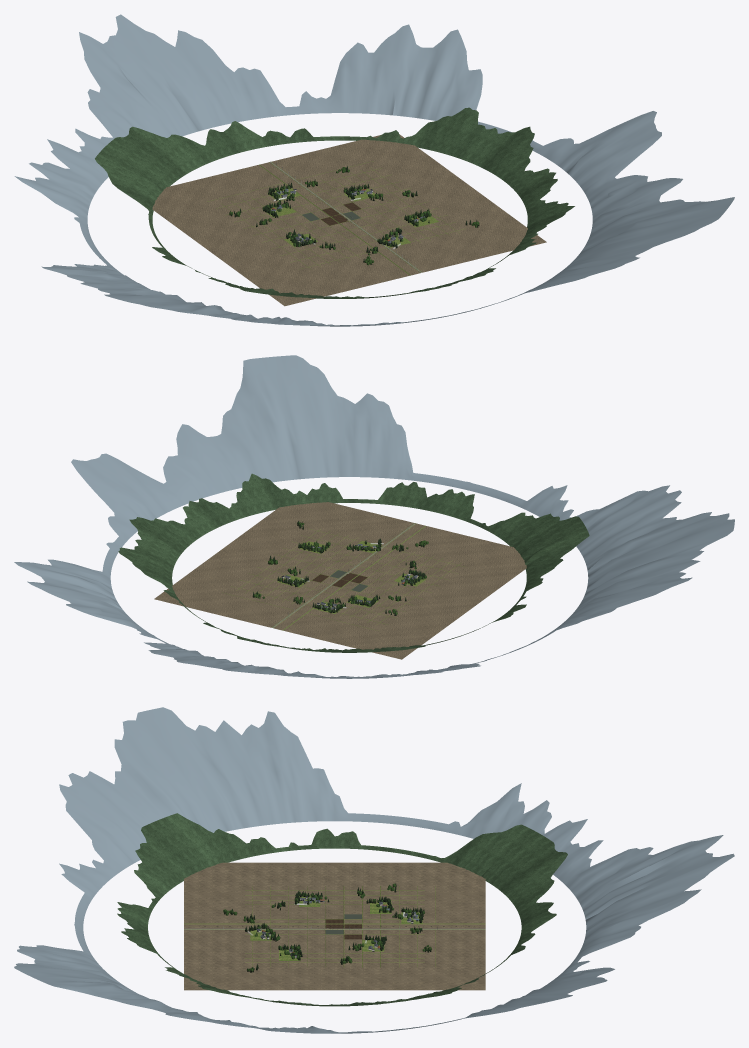
Rendered from field_tanbo.glb.
3 renders of one model, top to bottom at view 1: azimuth 30°, elevation 25°; view 2: azimuth 150°, elevation 25°; view 3: azimuth 270°, elevation 25°, orthographic. The views are drawn at different scales.
Parts seen in each view (by area): view 1: Hills, Neighbors, Trees, Houses, Levees; view 2: Hills, Neighbors, Trees, Houses; view 3: Hills, Neighbors, Trees, Houses, Levees.
Part boxes in pixels (bbox=[...]): Hills: bbox=[14, 14, 734, 326]; Neighbors: bbox=[152, 134, 546, 306]; Trees: bbox=[229, 166, 479, 265]; Houses: bbox=[264, 188, 438, 249]; Levees: bbox=[259, 161, 422, 275]; Hills: bbox=[14, 355, 734, 678]; Neighbors: bbox=[154, 502, 526, 659]; Trees: bbox=[252, 521, 428, 615]; Houses: bbox=[277, 541, 425, 613]; Hills: bbox=[14, 707, 734, 1033]; Neighbors: bbox=[184, 862, 485, 990]; Trees: bbox=[223, 883, 431, 972]; Houses: bbox=[247, 895, 422, 960]; Levees: bbox=[184, 923, 485, 929].
Size of the model in its own units: 2031 by 201 by 2007.
Materials: 28 (10 with a texture image).
